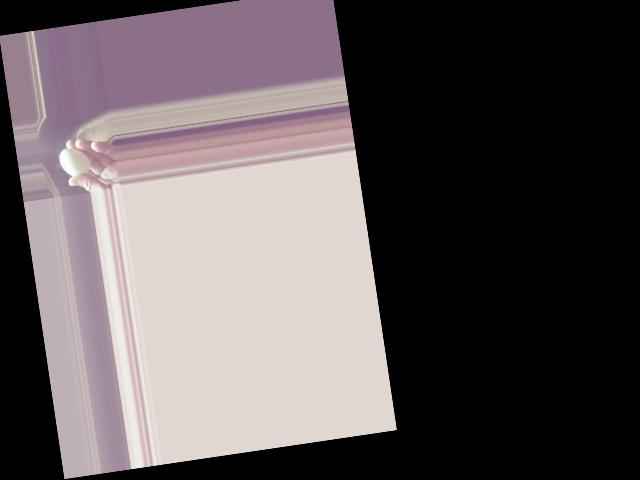egg: (58, 145, 91, 178)
